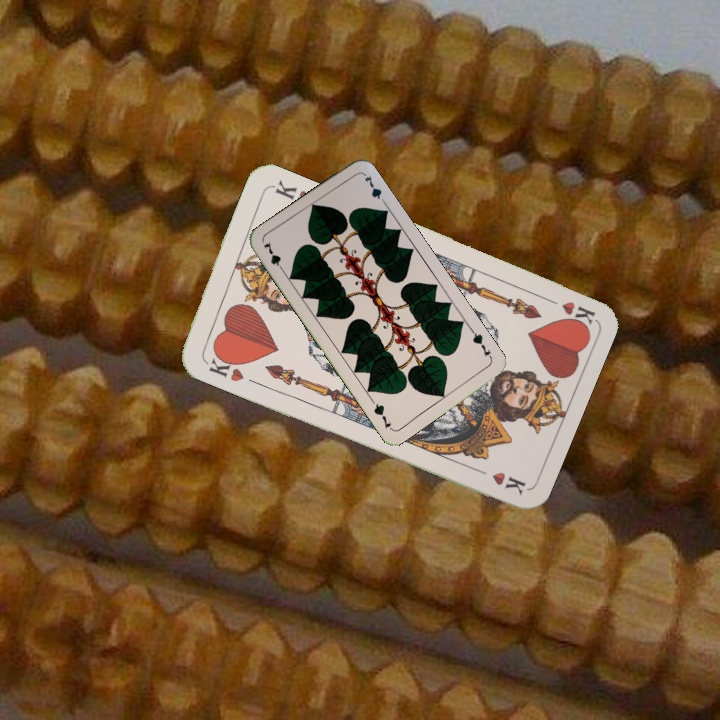G7: (259, 238, 287, 276), (467, 326, 495, 362)
HK: (538, 292, 597, 330), (199, 349, 247, 385)
